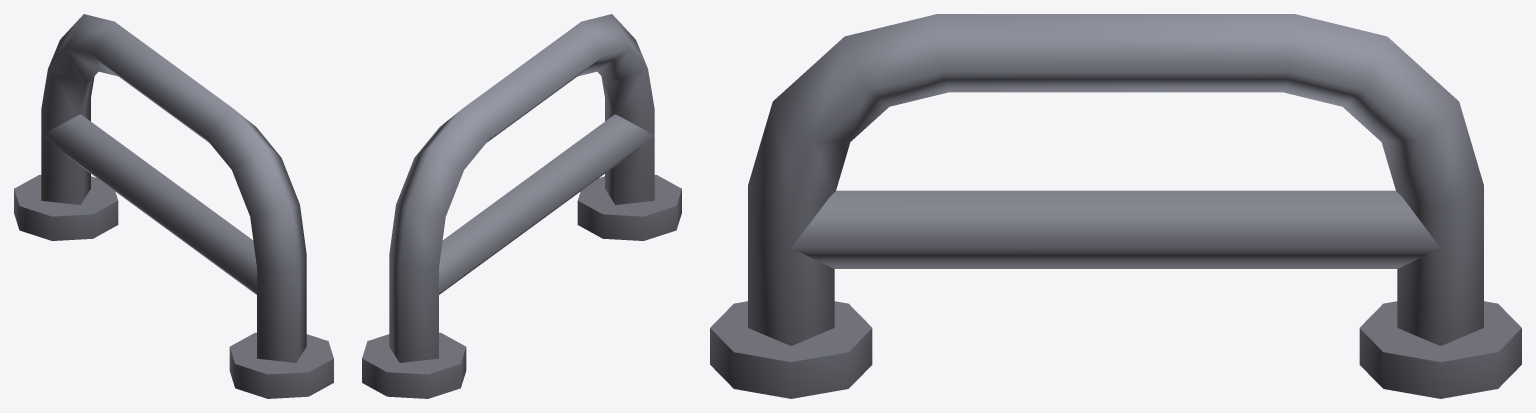
The model's file is construction_fence.glb.
3 renders of one model, left to right at view 1: azimuth 30°, elevation 25°; view 2: azimuth 150°, elevation 25°; view 3: azimuth 270°, elevation 25°, orthographic. The views are drawn at different scales.
Parts seen in each view (by area): view 1: construction-fence; view 2: construction-fence; view 3: construction-fence.
Boxes of the visible parts, x1=… form: construction-fence: x1=14, y1=14, x2=333, y2=398; construction-fence: x1=362, y1=14, x2=681, y2=398; construction-fence: x1=710, y1=14, x2=1521, y2=398.
Bounding box in the file's own units: 0.6 × 1.43 × 3.
Materials: 1 (1 with a texture image).
